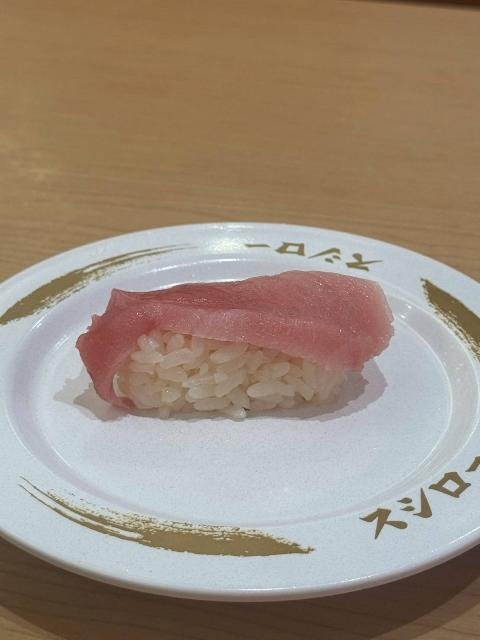janwhite: (0, 430, 480, 603), (65, 210, 396, 271), (388, 240, 476, 450), (0, 232, 78, 438)
